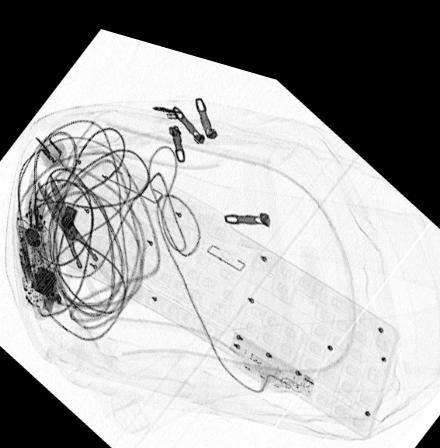Scissors: (34, 169, 145, 311)
